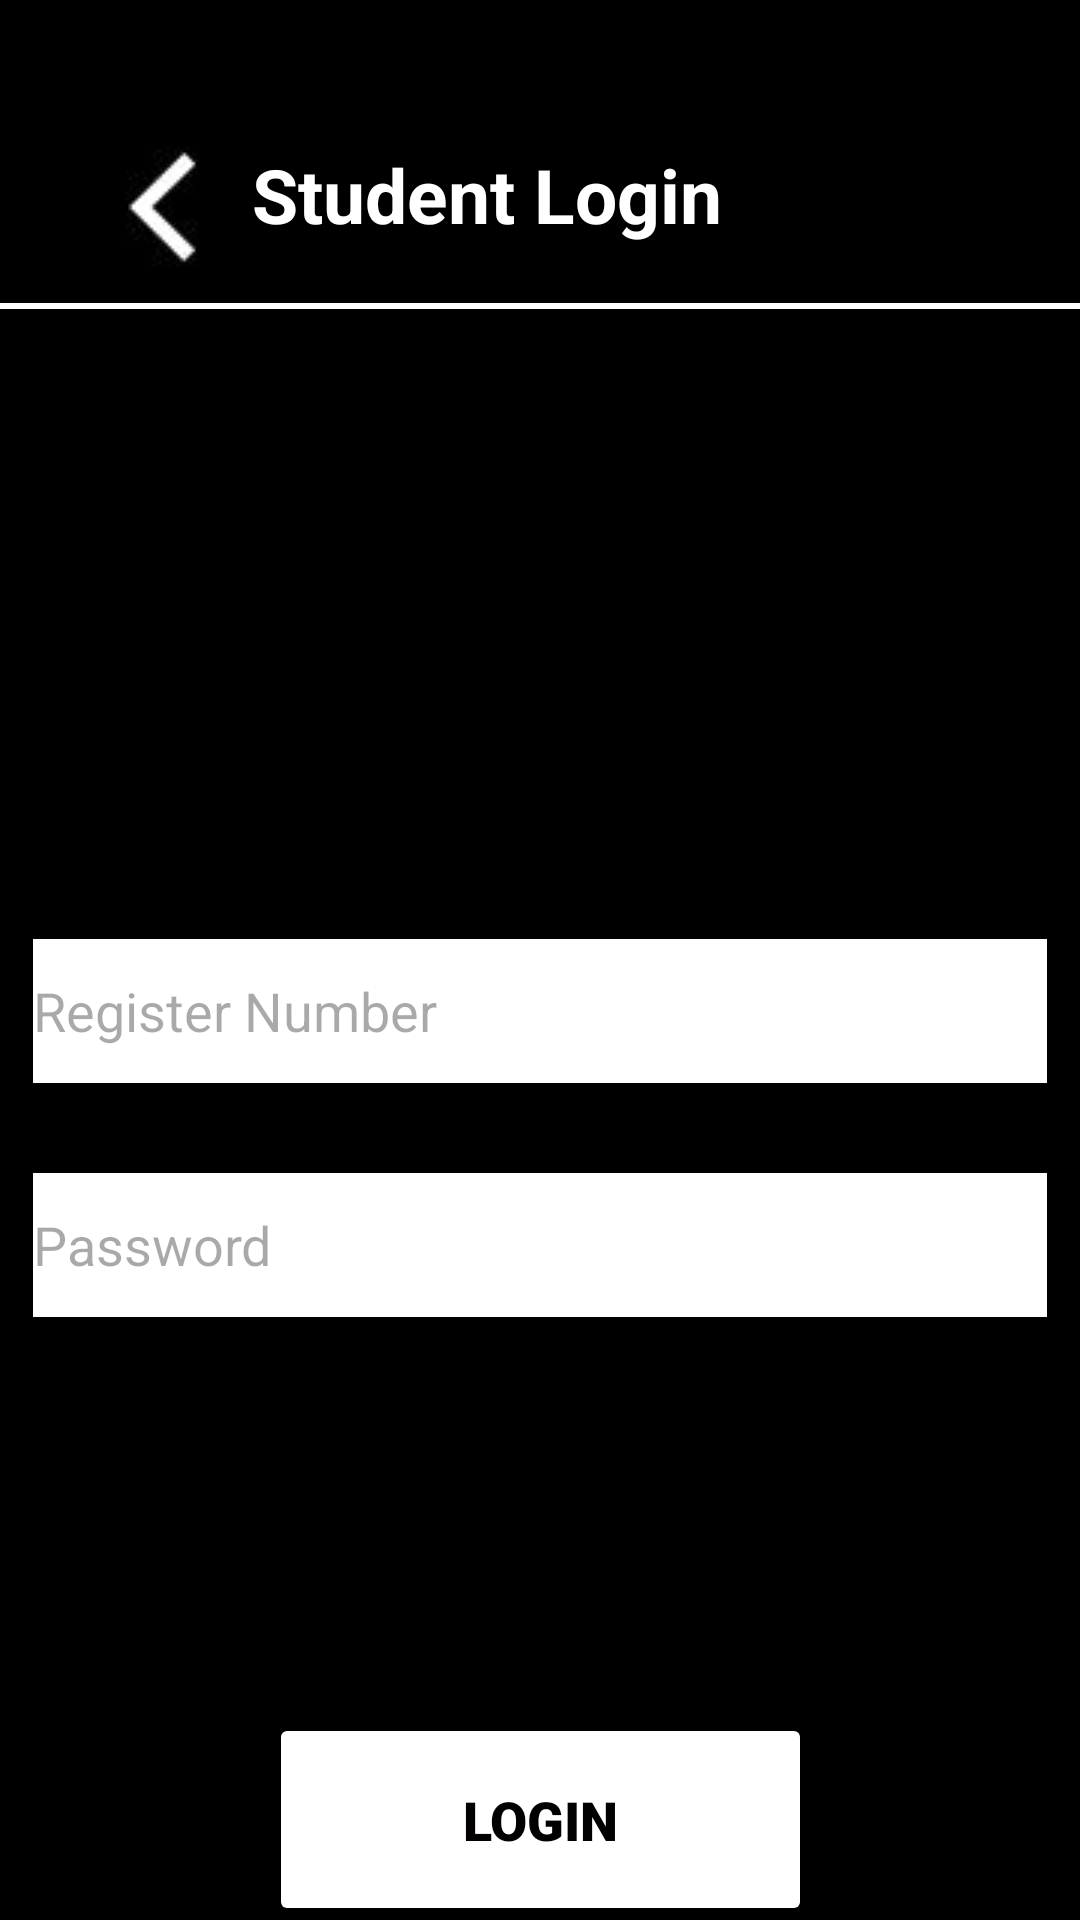

Screen size 1080 × 1920. Icon name, then its center in pixels as point (x, y):
arrow: point (162, 207)
